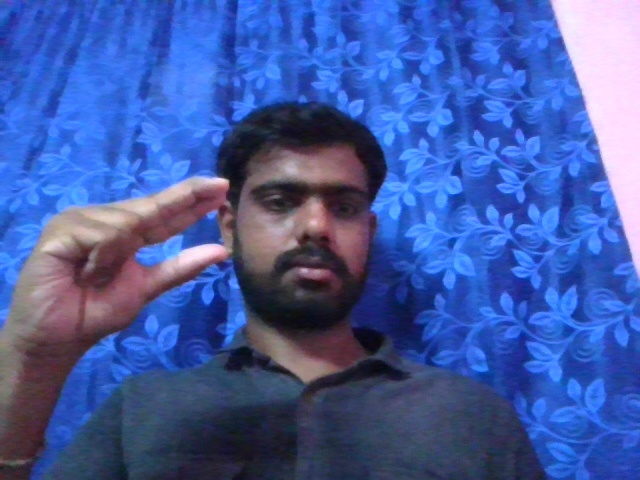No: (7, 157, 232, 348)
